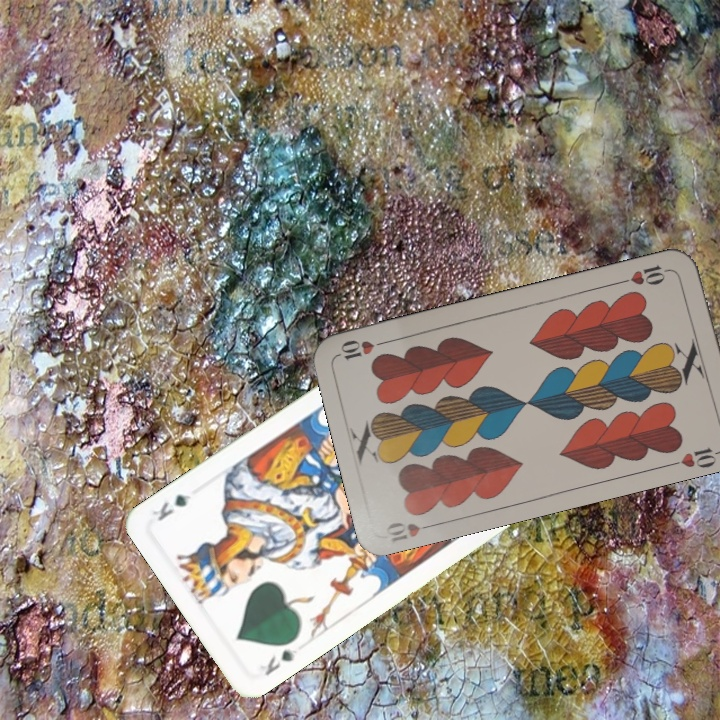GK: (260, 643, 300, 678)
H10: (381, 518, 440, 545), (617, 261, 675, 288)
